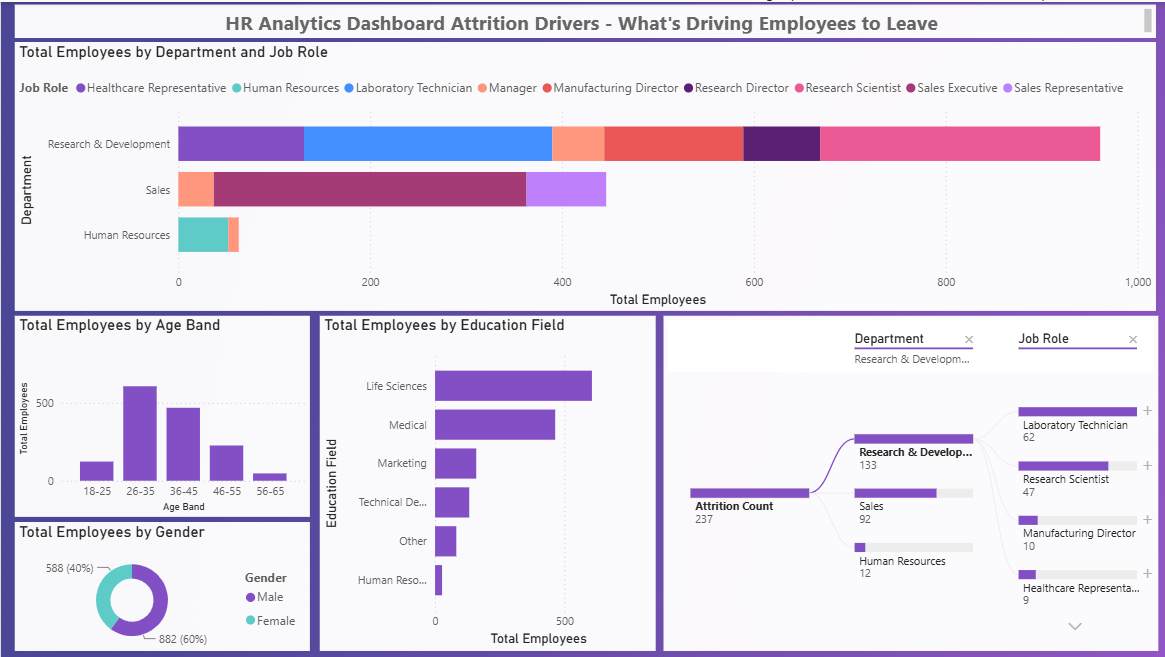

The dashboard page shown, as its layout file describes it:
{"tool":"powerbi","page":{"name":"Demographics","canvas":[1280,720],"ordinal":2},"visuals":[{"type":"barChart","fields":{"Category":["public hr_employees.department"],"Series":["public hr_employees.job_role"],"Y":["_Measures.Total Employees"]},"box":[15.1,43.9,1252.8,295],"z":0},{"type":"columnChart","fields":{"Category":["public hr_employees.age_band"],"Y":["_Measures.Total Employees"]},"box":[15.1,344.4,323.8,220.9],"z":1000},{"type":"donutChart","fields":{"Category":["public hr_employees.gender"],"Y":["_Measures.Total Employees"]},"box":[15.1,570.8,323.8,141.3],"z":2000},{"type":"barChart","fields":{"Category":["public hr_employees.education_field"],"Y":["_Measures.Total Employees"]},"box":[349.9,344.4,369.1,367.8],"z":3000},{"type":"decompositionTreeVisual","fields":{"Analyze":["_Measures.Attrition Count"],"ExplainBy":["public hr_employees.department","public hr_employees.job_role","public hr_employees.over_time","public hr_employees.gender","public hr_employees.marital_status","public hr_employees.education_field"]},"box":[727.3,344.4,543.4,367.8],"z":4000},{"type":"textbox","box":[15.1,2.7,1252.8,37],"z":4001}]}

Visuals, with their boxes in screenshot pixels (x1, y1, x2, y2), scaled from the page's 1280x720 canvas onto the 1165x657 screenshot:
barChart - public hr_employees.department x public hr_employees.job_role: <bbox>14, 40, 1154, 309</bbox>
columnChart - public hr_employees.age_band x _Measures.Total Employees: <bbox>14, 314, 308, 516</bbox>
donutChart - public hr_employees.gender x _Measures.Total Employees: <bbox>14, 521, 308, 650</bbox>
barChart - public hr_employees.education_field x _Measures.Total Employees: <bbox>318, 314, 654, 650</bbox>
decompositionTreeVisual - _Measures.Attrition Count x public hr_employees.department: <bbox>662, 314, 1157, 650</bbox>
textbox: <bbox>14, 2, 1154, 36</bbox>
